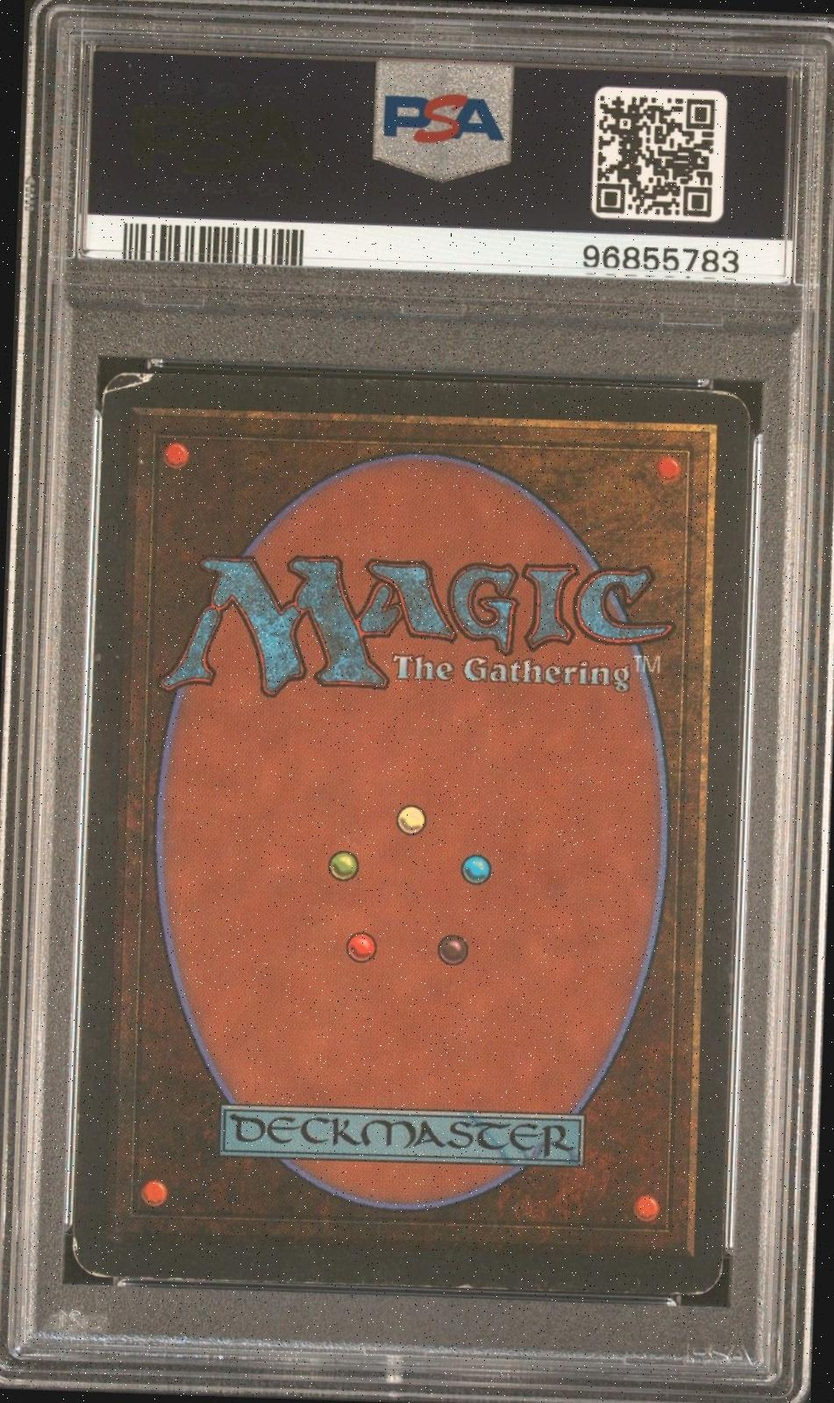card-2UtV: (71, 371, 750, 1295)
